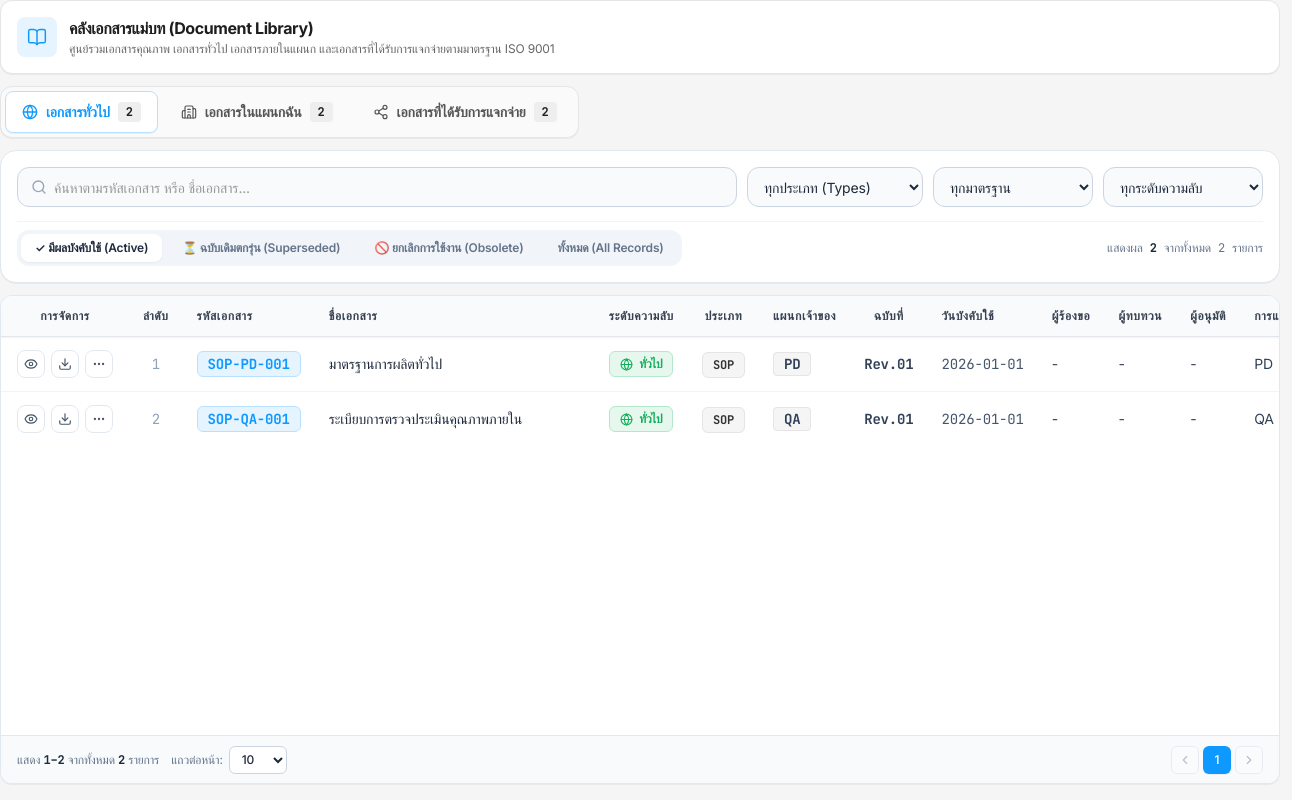
Test: Library 3-Tier Tab Navigation & 4-Tier Access Scope Integration Tests › 4. Tab "เอกสารที่ได้รับการแจกจ่าย" displays shared/distributed docs from other depts
This screenshot has width=1292, height=800.
Click the button "เอกสารที่ได้รับการแจกจ่าย 2" at point(465, 112), box [356, 91, 574, 133]
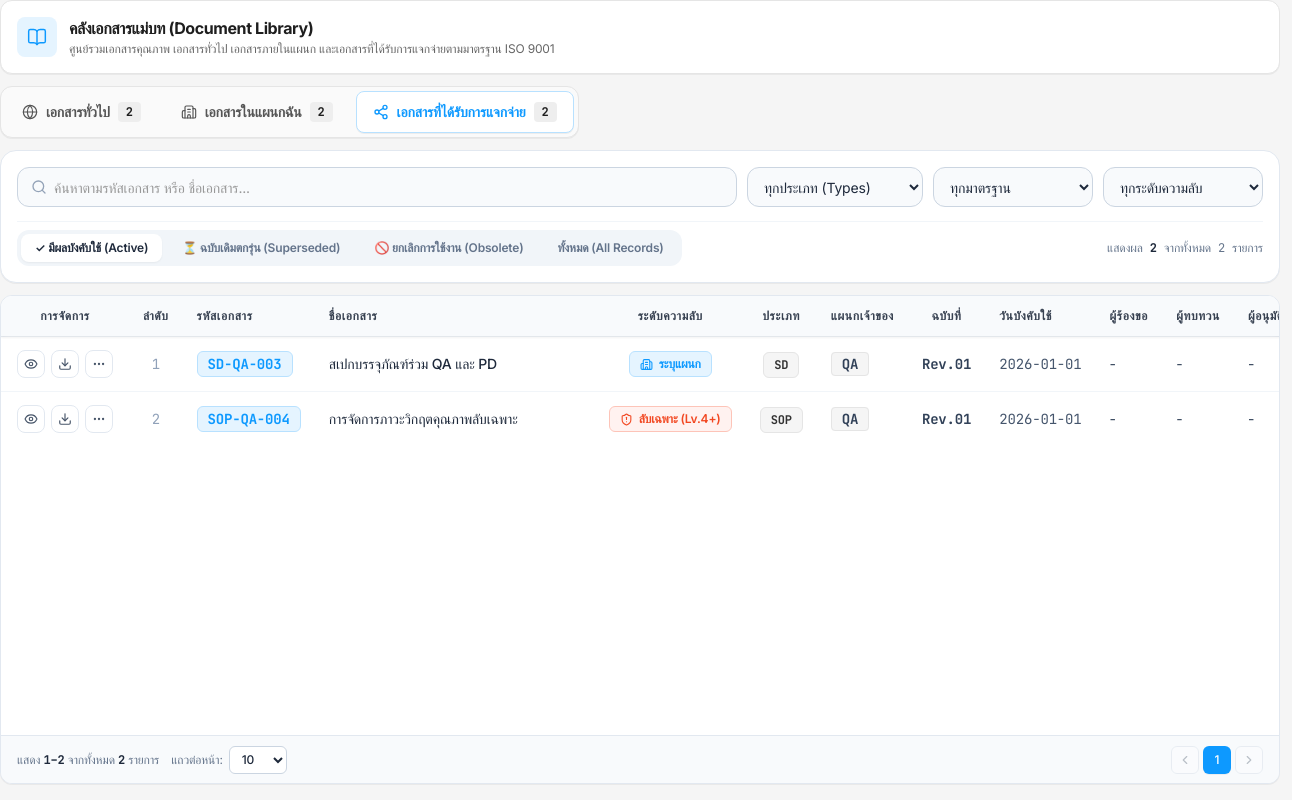
expect the text "SD-QA-003" is shown: met, box [196, 351, 292, 377]
expect the text "SOP-PD-001" is gone: met
